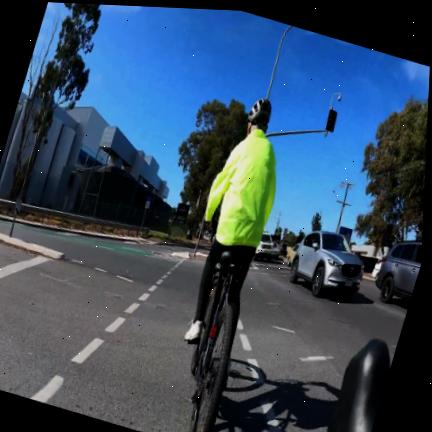Green_Bike_Lane: (83, 239, 171, 260)
